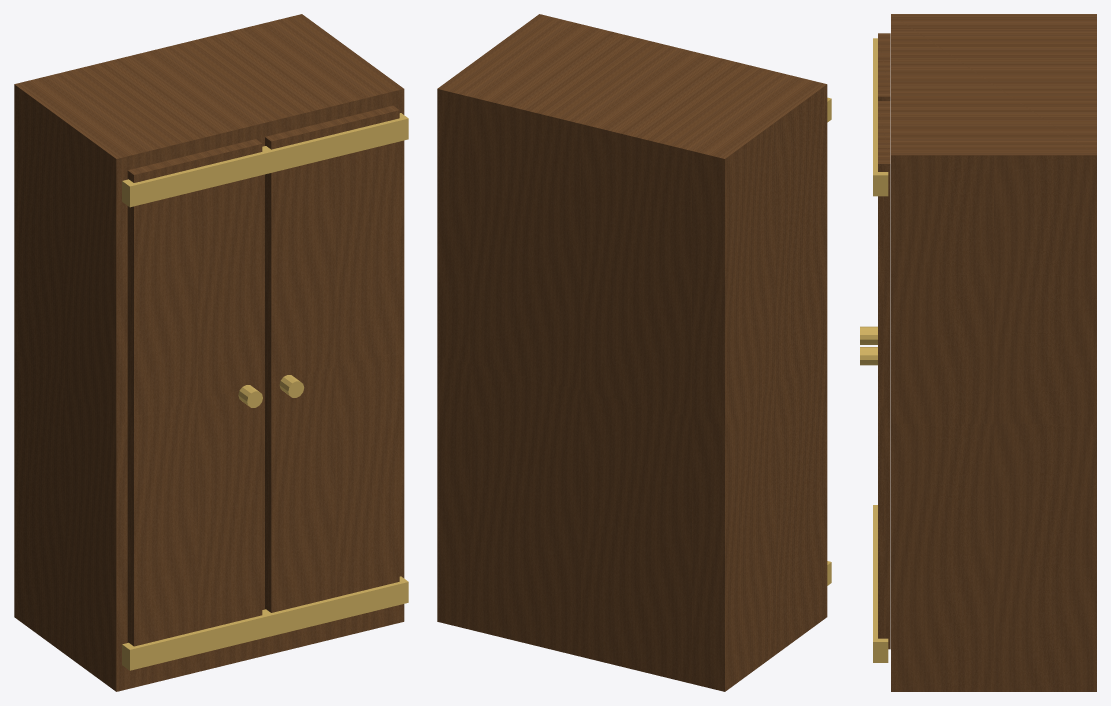
File: wardrobe.glb
3 renders of one model, left to right at view 1: azimuth 30°, elevation 25°; view 2: azimuth 150°, elevation 25°; view 3: azimuth 270°, elevation 25°, orthographic.
Visible parts, largest first — view 1: Wardrobe body, Door panel, Door panel.001, Trim, Trim.001; view 2: Wardrobe body; view 3: Wardrobe body, Door panel.001, Trim.001, Trim, Door panel.
Part boxes in pixels (left/top/right/bottom): Wardrobe body: left=14, top=14, right=404, bottom=691; Door panel: left=127, top=139, right=262, bottom=646; Door panel.001: left=265, top=105, right=399, bottom=612; Trim: left=122, top=576, right=408, bottom=670; Trim.001: left=122, top=113, right=408, bottom=207; Wardrobe body: left=437, top=14, right=827, bottom=691; Wardrobe body: left=891, top=14, right=1096, bottom=691; Door panel.001: left=878, top=101, right=890, bottom=649; Trim.001: left=873, top=38, right=888, bottom=196; Trim: left=873, top=505, right=888, bottom=662; Door panel: left=878, top=33, right=890, bottom=100.
Bounding box in the file's own units: 0.65 × 1.15 × 0.46.
Materials: 2 (1 with a texture image).
